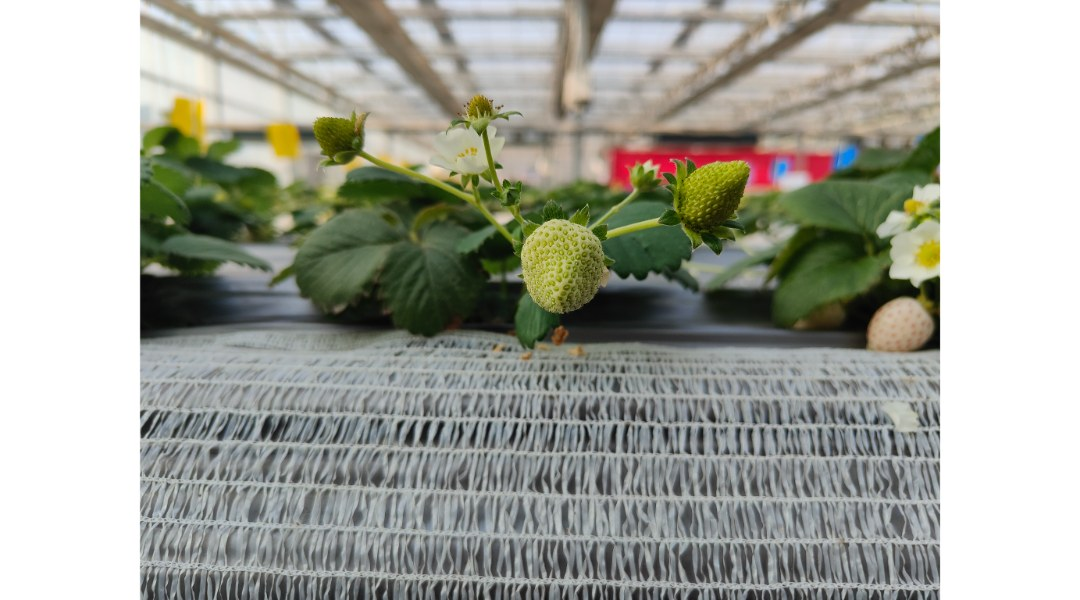berry: (668, 148, 767, 261), (515, 214, 613, 325), (856, 289, 939, 360), (305, 100, 367, 174), (452, 97, 502, 131)
flower: (864, 200, 955, 286), (418, 128, 515, 178)
strain: (370, 151, 468, 207), (449, 195, 516, 246), (599, 219, 668, 246), (480, 134, 503, 200)
